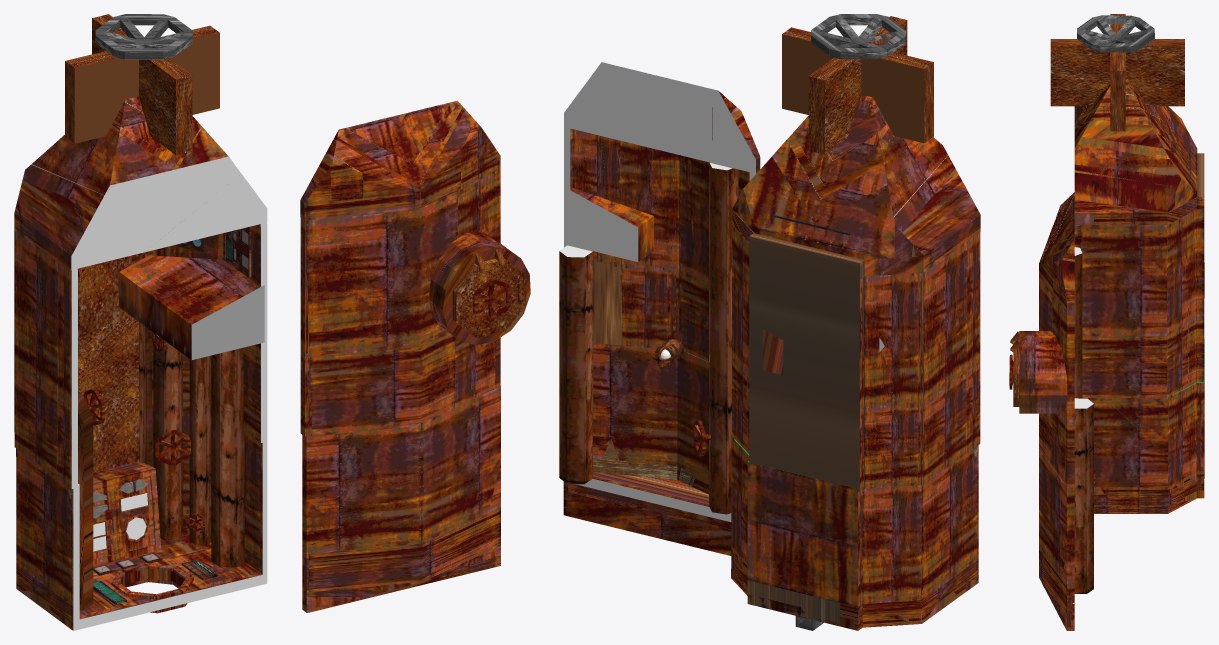
The model's file is the iron lung.obj.
3 views of the same model, side by side, from view 1: azimuth 30°, elevation 25°; view 2: azimuth 150°, elevation 25°; view 3: azimuth 270°, elevation 25° (orthographic). The views are drawn at different scales.
Visible parts, largest first — view 1: Object.55, Object.71, Object.66, Object.77, Object.72, Object.31, Object.46, Object.37, Object.53, Object.59, Object.68, Object.20 (+22 smaller); view 2: Object.31, Object.37, Object.55, Object.46, Object.66, Object.71, Object.77, Object.72, Object.80, Object.79, Object.59, Object.58 (+15 smaller); view 3: Object.55, Object.31, Object.37, Object.46, Object.58, Object.79, Object.81, Object.71, Object.77, Object.1, Object.66, Object.72 (+9 smaller).
Part boxes in pixels (x1,y1,x2,y2): Object.55: (14, 96, 267, 272); Object.71: (302, 385, 500, 554); Object.66: (300, 171, 500, 356); Object.77: (300, 100, 500, 220); Object.72: (300, 331, 500, 436); Object.31: (14, 224, 267, 405); Object.46: (14, 319, 267, 488); Object.37: (16, 399, 261, 605); Object.53: (119, 255, 264, 360); Object.59: (65, 25, 219, 143); Object.68: (309, 507, 500, 592); Object.20: (211, 347, 244, 567); Object.31: (732, 224, 980, 413); Object.37: (731, 435, 977, 606); Object.55: (732, 94, 980, 279); Object.46: (732, 357, 980, 491); Object.66: (564, 129, 753, 286); Object.71: (593, 343, 708, 480); Object.77: (564, 62, 760, 175); Object.72: (593, 261, 708, 361); Object.80: (709, 163, 732, 514); Object.79: (559, 245, 592, 484); Object.59: (782, 27, 933, 143); Object.58: (808, 16, 907, 154); Object.55: (1074, 79, 1204, 225); Object.31: (1074, 209, 1204, 336); Object.37: (1082, 339, 1204, 494); Object.46: (1082, 320, 1204, 397); Object.58: (1050, 39, 1184, 106); Object.79: (1074, 398, 1093, 593); Object.81: (1019, 331, 1067, 413); Object.71: (1039, 450, 1074, 583); Object.77: (1039, 192, 1074, 314); Object.1: (1077, 15, 1154, 52); Object.66: (1039, 277, 1074, 425); Object.72: (1039, 413, 1074, 487).
Size of the model in its own units: 158 by 209 by 78.01.
